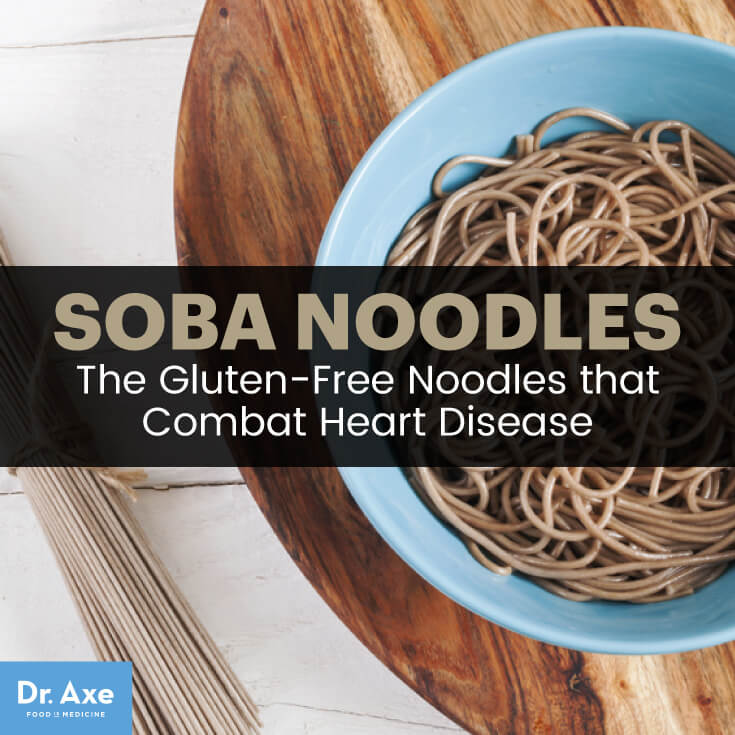Soba: (415, 104, 729, 266), (411, 468, 735, 601)
